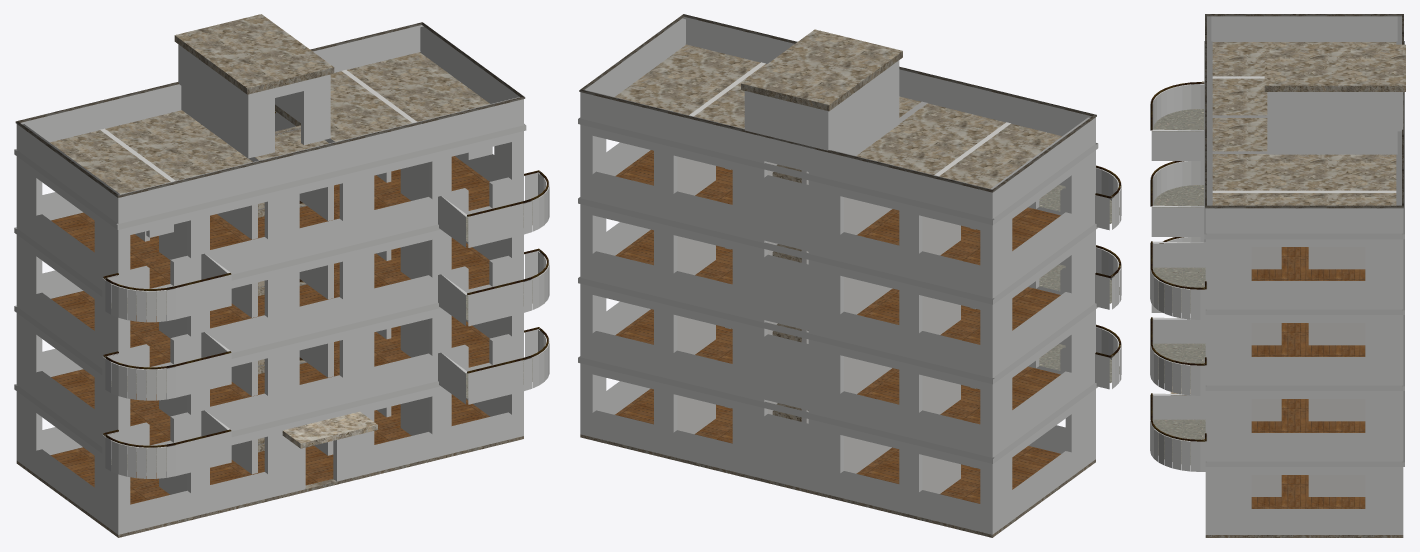
The model's file is bauhaus-block.reveal-v1.lod0.glb.
3 views of the same model, side by side, from view 1: azimuth 30°, elevation 25°; view 2: azimuth 150°, elevation 25°; view 3: azimuth 270°, elevation 25° (orthographic). The views are drawn at different scales.
Parts seen in each view (by area): view 1: bauhaus-block; view 2: bauhaus-block; view 3: bauhaus-block.
Part boxes in pixels (<box>): bauhaus-block: <box>14,14,549,537</box>; bauhaus-block: <box>578,14,1121,537</box>; bauhaus-block: <box>1150,14,1405,537</box>.
Size of the model in its own units: 18.12 by 15.55 by 9.46.
5 materials, 4 textured.
